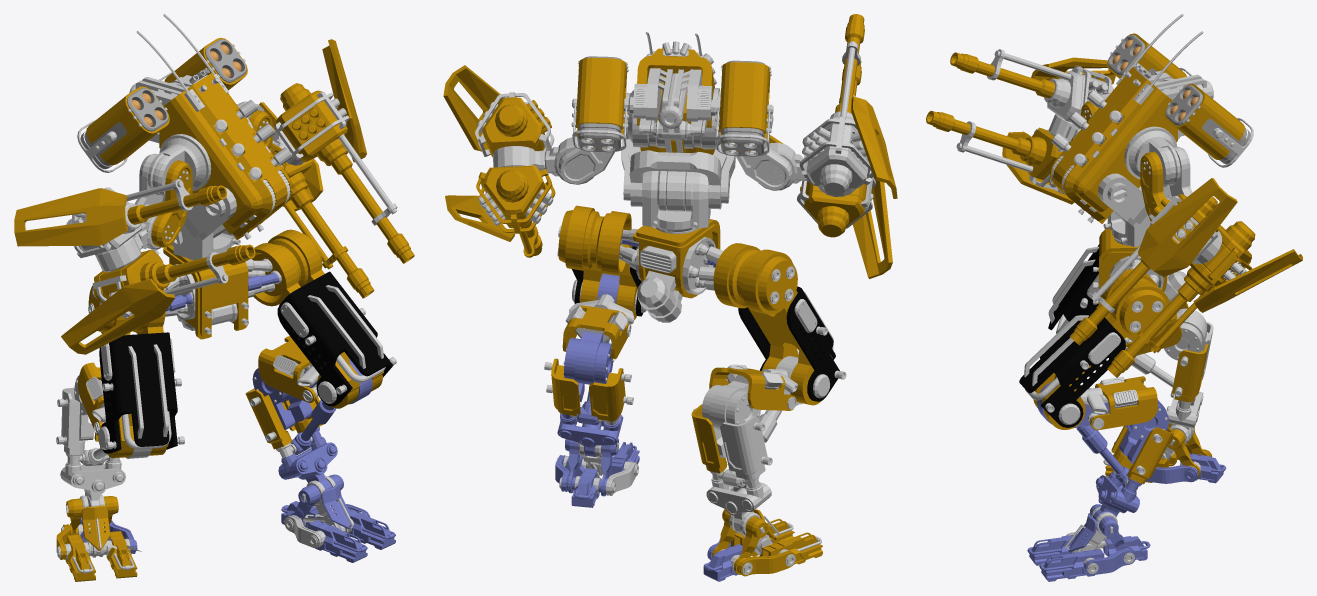
File: gardon_robot.glb
3 views of the same model, side by side, from view 1: azimuth 30°, elevation 25°; view 2: azimuth 150°, elevation 25°; view 3: azimuth 270°, elevation 25° (orthographic). The views are drawn at different scales.
Bounding box in the file's own units: 14.42 × 18.4 × 13.06.
